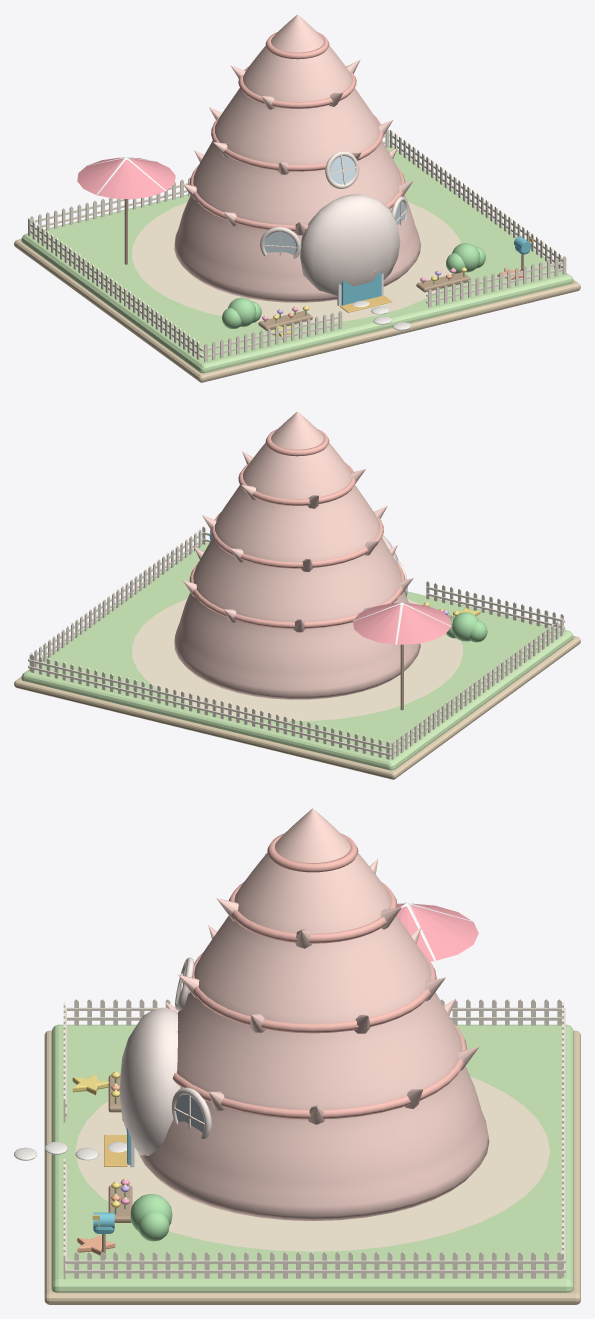
The model's file is building_ocean_L08.glb.
The picture shows the model from 3 angles, top to bottom: view 1: azimuth 30°, elevation 25°; view 2: azimuth 150°, elevation 25°; view 3: azimuth 270°, elevation 25°; orthographic projection. The views are drawn at different scales.
Parts seen in each view (by area): view 1: Body, ocean_L8; view 2: Body, ocean_L8; view 3: Body, ocean_L8.
Boxes of the visible parts, box(x1,y1,x2,y2) form: Body: box(77, 14, 523, 339); ocean_L8: box(14, 129, 580, 382); Body: box(132, 411, 480, 720); ocean_L8: box(14, 526, 580, 779); Body: box(72, 808, 549, 1255); ocean_L8: box(14, 999, 580, 1304).
Size of the model in its own units: 26.61 by 16.97 by 23.89.
